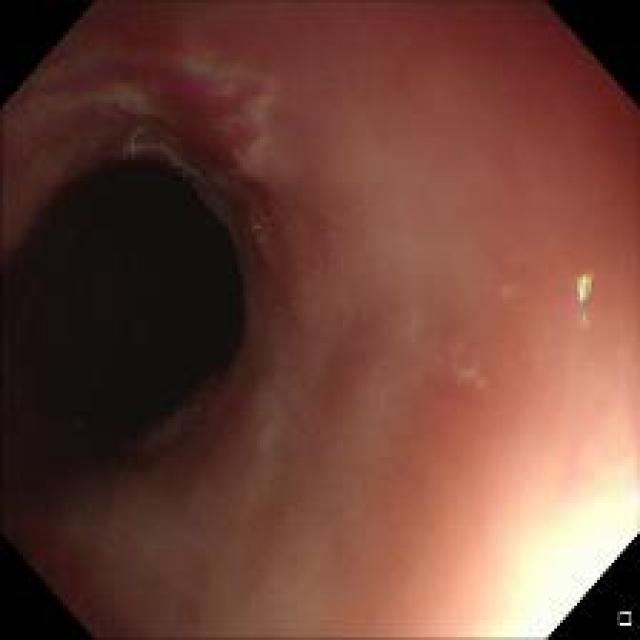color misalignment: (2, 5, 266, 169), (572, 265, 591, 326)
contrast: (12, 136, 269, 476)
saturation: (469, 474, 628, 625)
